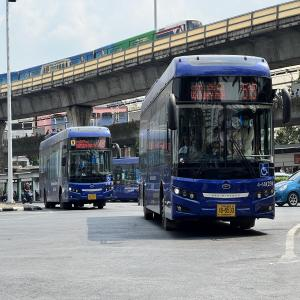Bus Line Number: (240, 80, 259, 101), (97, 138, 106, 148)
Bus Side Number: (257, 180, 273, 188), (105, 182, 113, 185)
Destination Sign: (190, 81, 227, 100), (75, 138, 97, 148)
TSB-Bus: (138, 55, 276, 230), (39, 126, 114, 211), (111, 158, 139, 202)
